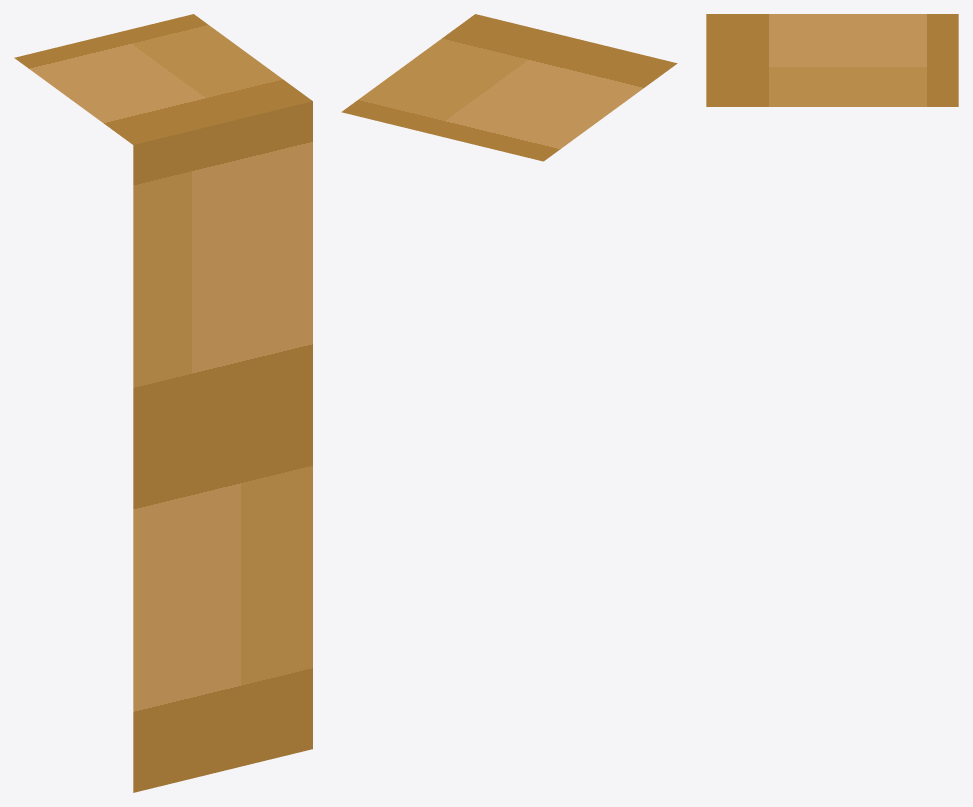
3 views of the same model, side by side, from view 1: azimuth 30°, elevation 25°; view 2: azimuth 150°, elevation 25°; view 3: azimuth 270°, elevation 25° (orthographic). The views are drawn at different scales.
Bounding box in the file's own units: 0.8711 × 3 × 1.
1 material, 1 textured.
